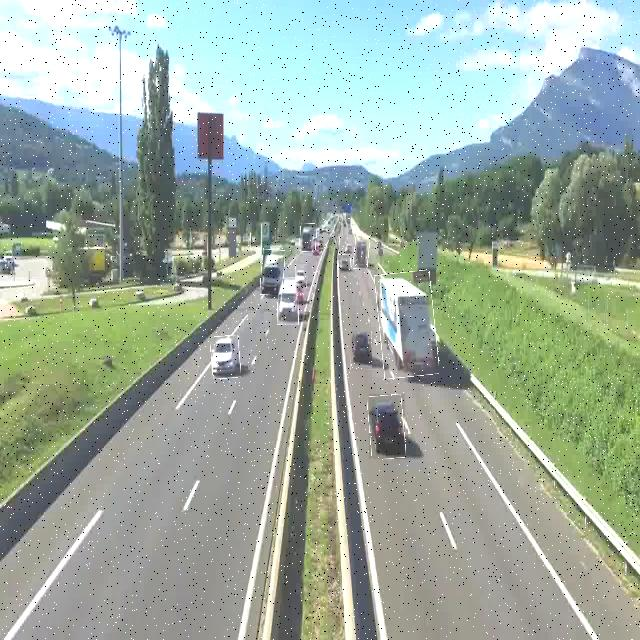Car: (369, 394, 405, 459), (211, 335, 241, 379), (278, 277, 299, 325), (350, 332, 372, 372), (295, 264, 307, 288), (339, 254, 351, 273)
Truck: (376, 272, 436, 378), (261, 250, 284, 295), (354, 236, 369, 269), (300, 224, 316, 252)
